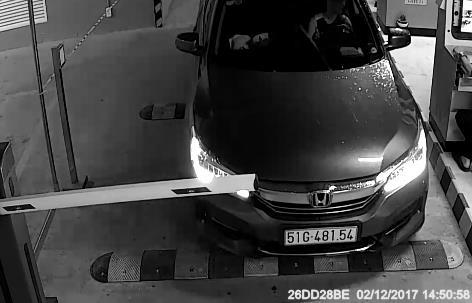License-plate: (281, 222, 366, 251)
